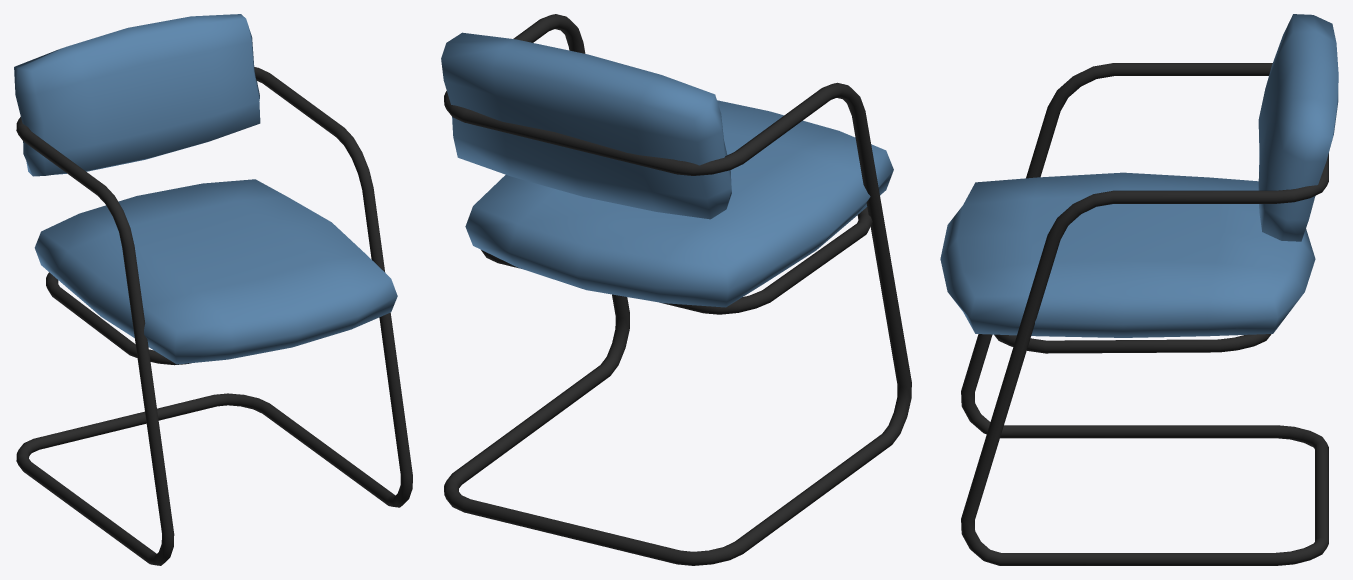
File: chair.glb
The picture shows the model from 3 angles, left to right: view 1: azimuth 30°, elevation 25°; view 2: azimuth 150°, elevation 25°; view 3: azimuth 270°, elevation 25°; orthographic projection. The views are drawn at different scales.
Visible parts, largest first — view 1: chair.005_ChairPillow_0, chair.005_Chair_0; view 2: chair.005_ChairPillow_0, chair.005_Chair_0; view 3: chair.005_ChairPillow_0, chair.005_Chair_0.
Boxes of the visible parts, <box> form: chair.005_ChairPillow_0: <box>14,14,397,364</box>; chair.005_Chair_0: <box>16,67,412,565</box>; chair.005_ChairPillow_0: <box>441,32,893,307</box>; chair.005_Chair_0: <box>444,14,911,565</box>; chair.005_ChairPillow_0: <box>940,14,1338,337</box>; chair.005_Chair_0: <box>961,63,1328,565</box>.
Bounding box in the file's own units: 0.5979 × 0.8906 × 0.7301.
